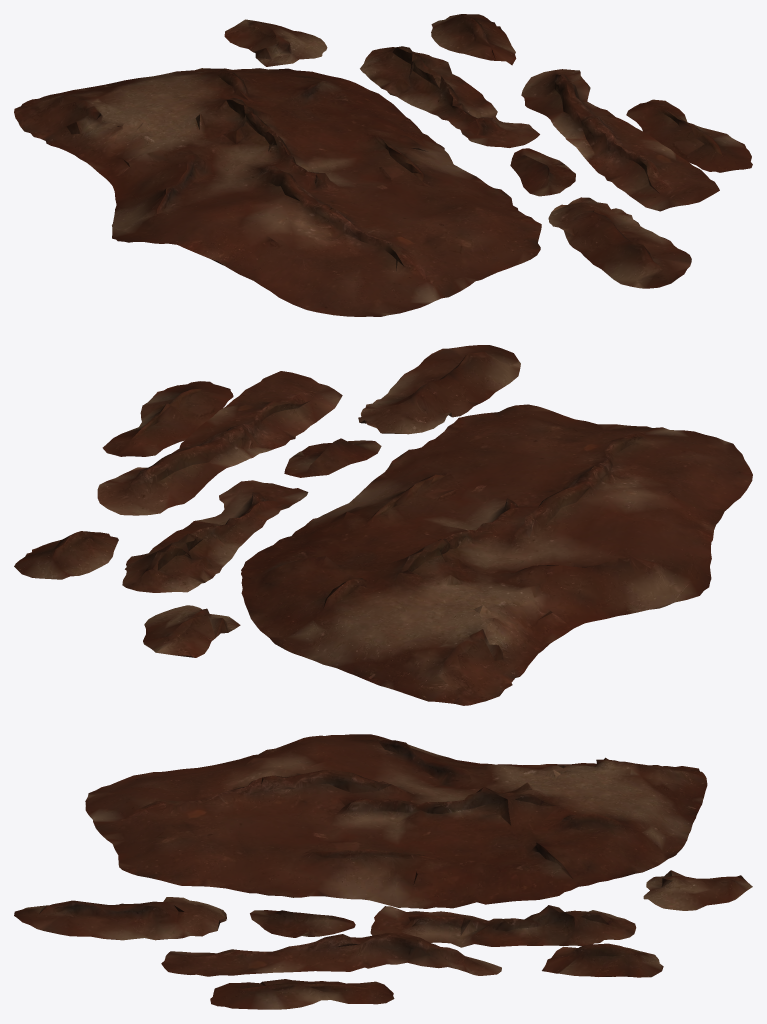
File: earth_roots_b.glb
The picture shows the model from 3 angles, top to bottom: view 1: azimuth 30°, elevation 25°; view 2: azimuth 150°, elevation 25°; view 3: azimuth 270°, elevation 25°; orthographic projection. The views are drawn at different scales.
Visible parts, largest first — view 1: earth_roots_b; view 2: earth_roots_b; view 3: earth_roots_b.
Part boxes in pixels (x1,y1,x2,y2): earth_roots_b: (14,14,752,316); earth_roots_b: (14,345,752,705); earth_roots_b: (14,734,752,1009).
Size of the model in its own units: 2.38 by 0.1968 by 2.71.
Materials: 1 (1 with a texture image).
